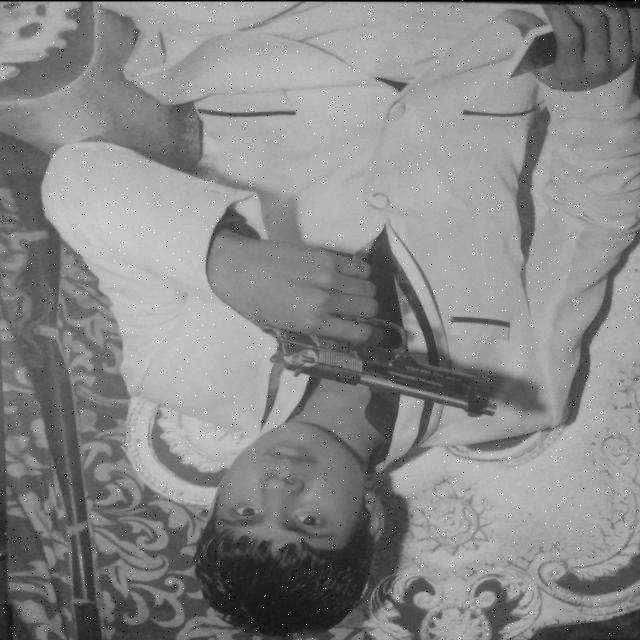gun: (261, 280, 511, 427)
